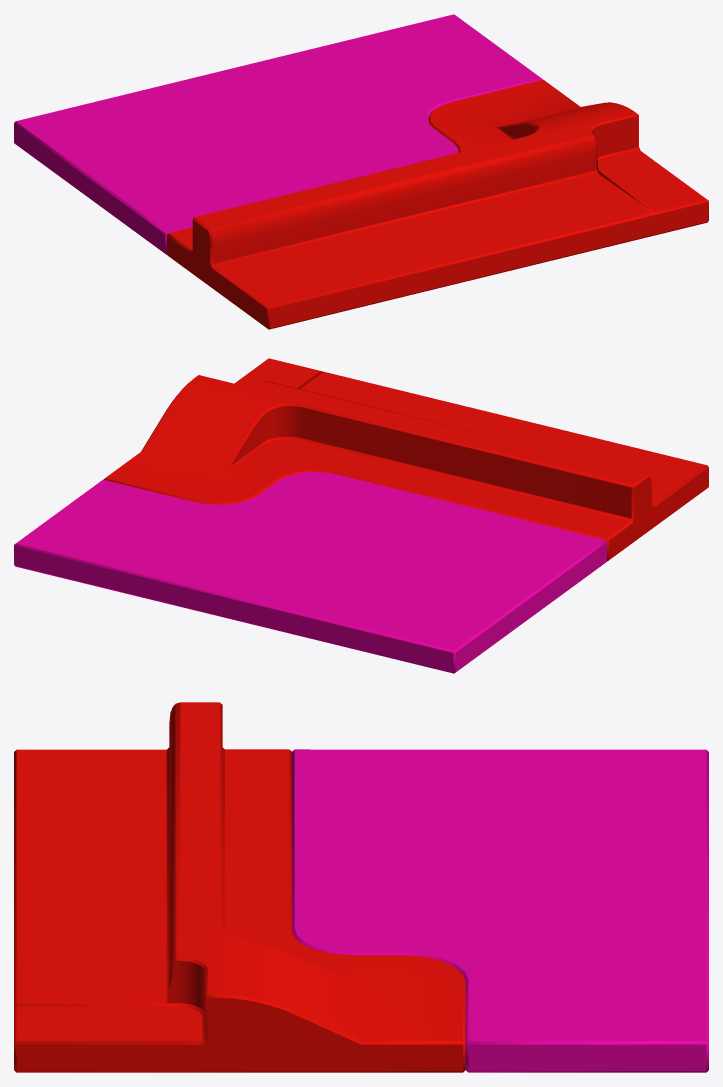
Rendered from Scifi2_Ground_TrimA.fbx.
The picture shows the model from 3 angles, top to bottom: view 1: azimuth 30°, elevation 25°; view 2: azimuth 150°, elevation 25°; view 3: azimuth 270°, elevation 25°; orthographic projection. The views are drawn at different scales.
Visible parts, largest first — view 1: Ground_TrimA; view 2: Ground_TrimA; view 3: Ground_TrimA.
Part boxes in pixels (x1,y1,x2,y2): Ground_TrimA: [14, 14, 708, 329]; Ground_TrimA: [14, 358, 708, 673]; Ground_TrimA: [14, 702, 708, 1072].
Size of the model in its own units: 400 by 50 by 400.
